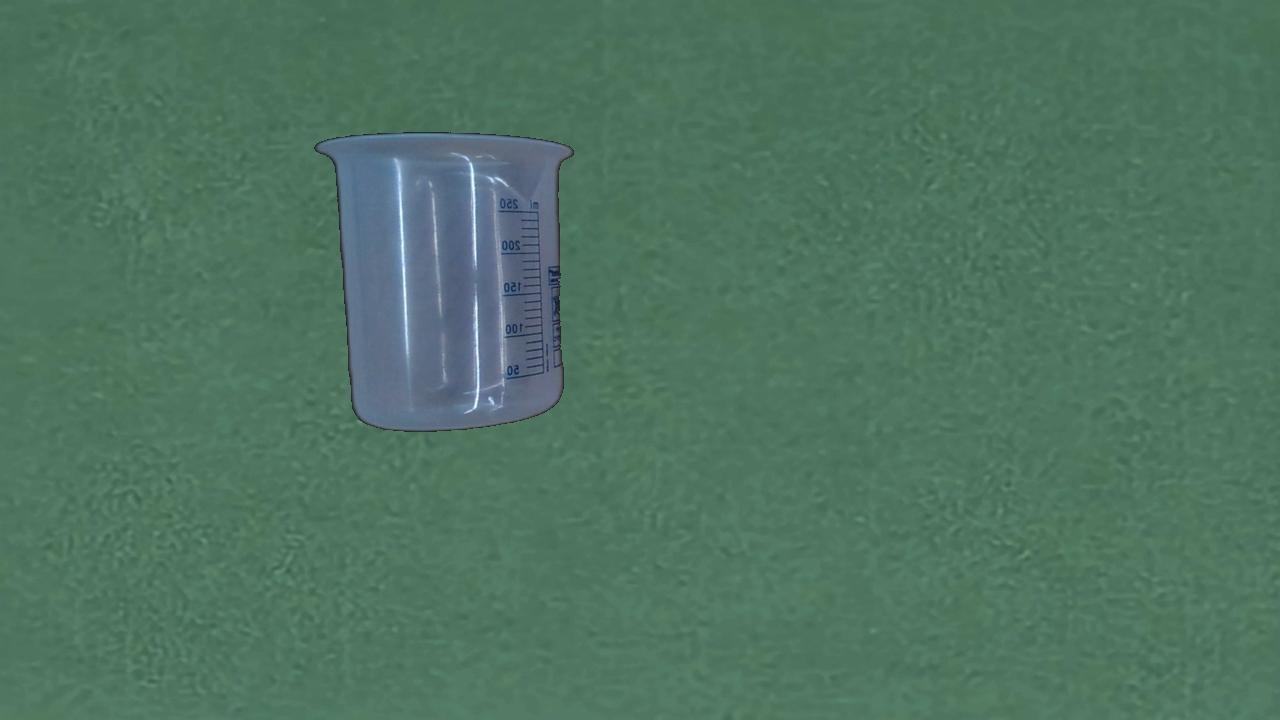becker: (312, 131, 571, 432)
